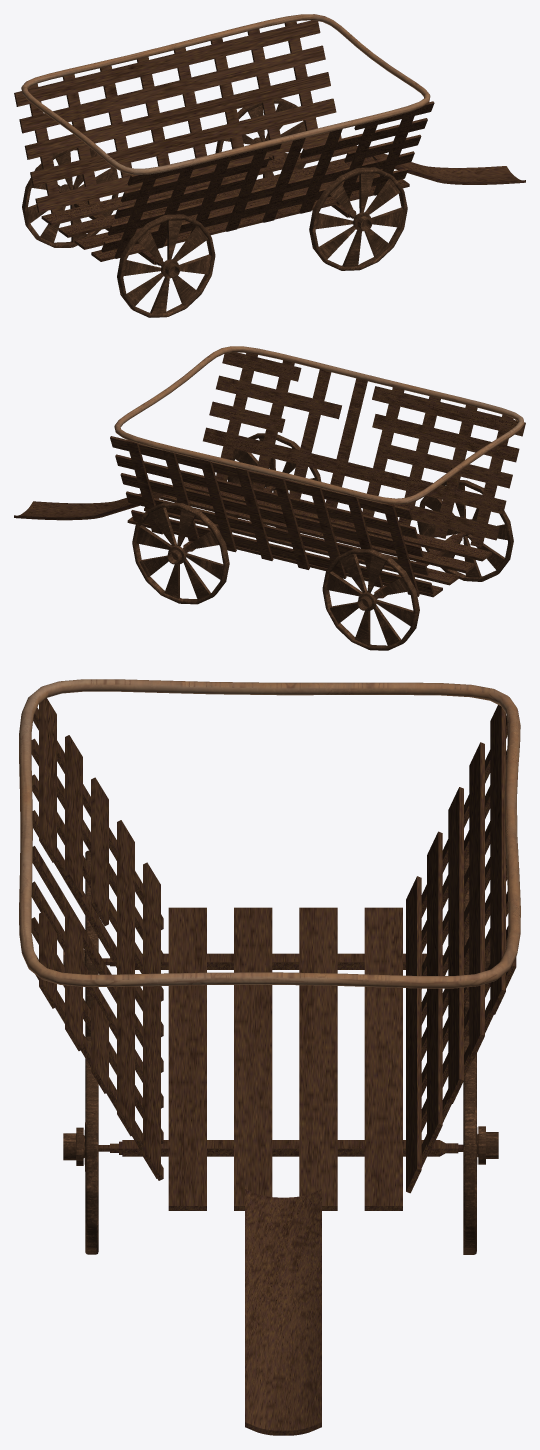
The model's file is köy arabası.fbx.
3 renders of one model, top to bottom at view 1: azimuth 30°, elevation 25°; view 2: azimuth 150°, elevation 25°; view 3: azimuth 270°, elevation 25°, orthographic. The views are drawn at different scales.
Visible parts, largest first — view 1: araba, TEKERLER, yuvarlak tahta; view 2: araba, TEKERLER, yuvarlak tahta; view 3: araba, yuvarlak tahta, TEKERLER.
Part boxes in pixels (x1,y1,x2,y2): araba: [14, 20, 525, 266]; TEKERLER: [22, 98, 407, 317]; yuvarlak tahta: [21, 14, 430, 174]; araba: [14, 352, 525, 599]; TEKERLER: [132, 433, 513, 650]; yuvarlak tahta: [114, 346, 524, 504]; araba: [31, 698, 516, 1435]; yuvarlak tahta: [19, 679, 520, 988]; TEKERLER: [63, 850, 498, 1254].
Size of the model in its own units: 683 by 241 by 332.
3 materials, 3 textured.
